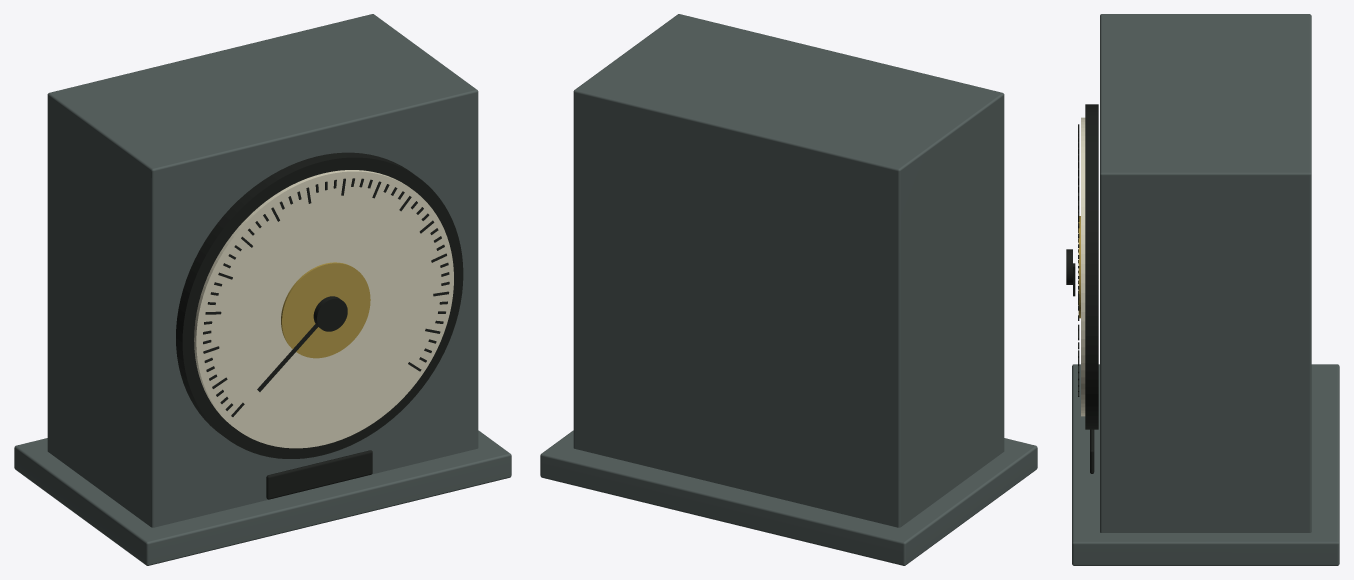
File: speedometer_photo_blockout.glb
3 renders of one model, left to right at view 1: azimuth 30°, elevation 25°; view 2: azimuth 150°, elevation 25°; view 3: azimuth 270°, elevation 25°, orthographic.
Parts seen in each view (by area): view 1: Fixed_Square_Housing, Dial_Face, Fixed_Foot, Dial_Dark_Bezel, Dial_Yellow_Center, Fixed_Nameplate, Needle_Cap; view 2: Fixed_Square_Housing, Fixed_Foot; view 3: Fixed_Square_Housing, Fixed_Foot, Dial_Dark_Bezel, Dial_Face.
Part boxes in pixels (x1,y1,x2,y2): Fixed_Square_Housing: (47,14,478,527); Dial_Face: (194,170,453,448); Fixed_Foot: (14,430,511,565); Dial_Dark_Bezel: (176,152,463,458); Dial_Yellow_Center: (281,262,370,358); Fixed_Nameplate: (266,450,372,499); Needle_Cap: (313,296,347,331); Fixed_Square_Housing: (573,14,1004,527); Fixed_Foot: (540,430,1037,565); Fixed_Square_Housing: (1100,14,1311,532); Fixed_Foot: (1072,364,1339,565); Dial_Dark_Bezel: (1085,104,1098,429); Dial_Face: (1081,117,1085,416).
Size of the model in its own units: 0.19 by 0.19 by 0.1225.
